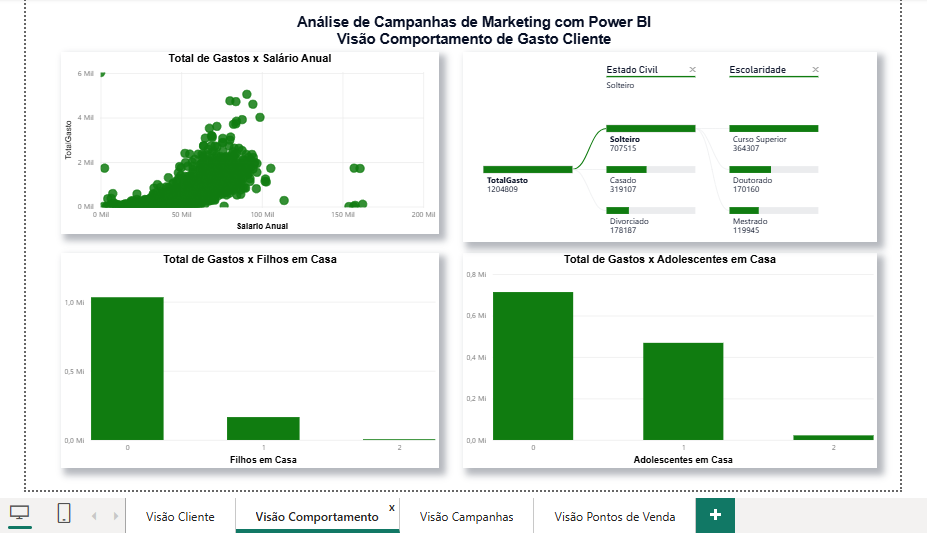

The page's visual inventory and layout, read from the dashboard file:
{"tool":"powerbi","page":{"name":"Visão Comportamento","canvas":[1280,720],"ordinal":1},"visuals":[{"type":"scatterChart","title":"Total de Gastos x Salário Anual","fields":{"X":["DadosMarketing.Salario Anual"],"Y":["DadosMarketing.TotalGasto"]},"box":[51.2,79,553.2,266.3],"z":0},{"type":"textbox","box":[357.1,19,597.1,74.6],"z":1000},{"type":"clusteredColumnChart","title":"Total de Gastos x Filhos em Casa","fields":{"Y":["DadosMarketing.TotalGasto"],"Category":["DadosMarketing.Filhos em Casa"]},"box":[51.2,373.2,553.2,314.6],"z":2000},{"type":"clusteredColumnChart","title":"Total de Gastos x Adolescentes em Casa","fields":{"Y":["DadosMarketing.TotalGasto"],"Category":["DadosMarketing.Adolescentes em Casa"]},"box":[639.5,373.2,605.9,314.6],"z":3000},{"type":"decompositionTreeVisual","fields":{"Analyze":["DadosMarketing.TotalGasto"],"ExplainBy":["DadosMarketing.Estado Civil","DadosMarketing.Escolaridade"]},"box":[639.5,79,605.9,278],"z":4000}]}

Visuals, with their boxes on the page's 1280x720 design canvas (x1, y1, x2, y2). These are canvas units, not pixel positions in the 927x533 screenshot, which may show the page scaled, cropped or inside an application window:
"Total de Gastos x Salário Anual" scatterChart: {"left": 51, "top": 79, "right": 604, "bottom": 345}
textbox: {"left": 357, "top": 19, "right": 954, "bottom": 94}
"Total de Gastos x Filhos em Casa" clusteredColumnChart: {"left": 51, "top": 373, "right": 604, "bottom": 688}
"Total de Gastos x Adolescentes em Casa" clusteredColumnChart: {"left": 640, "top": 373, "right": 1245, "bottom": 688}
decompositionTreeVisual - DadosMarketing.TotalGasto x DadosMarketing.Estado Civil: {"left": 640, "top": 79, "right": 1245, "bottom": 357}
